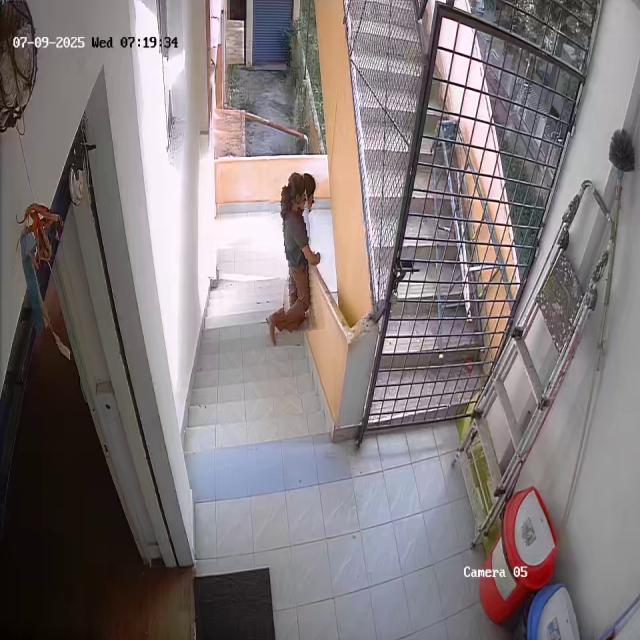person: (272, 172, 320, 333)
